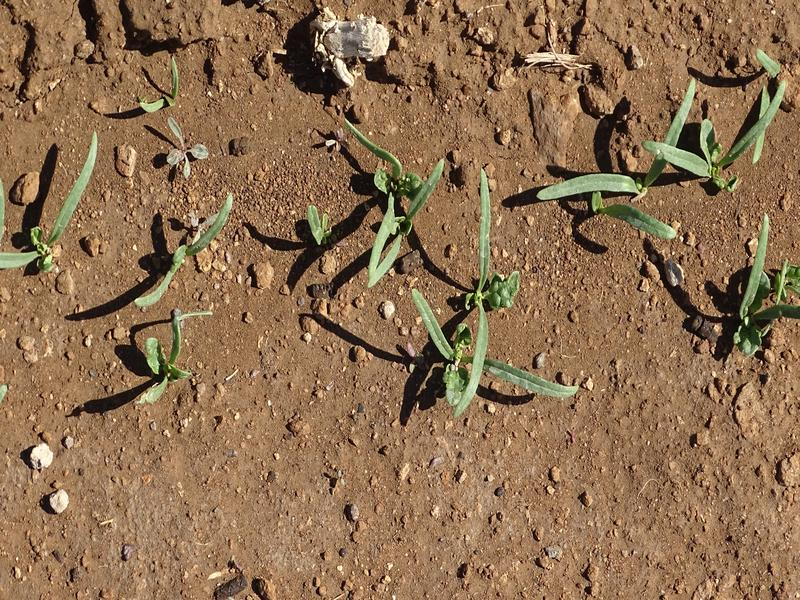Espinaca: (551, 68, 793, 223), (418, 170, 521, 411), (336, 124, 444, 282), (2, 132, 104, 280), (705, 221, 800, 352), (138, 197, 240, 303), (138, 311, 189, 396)
